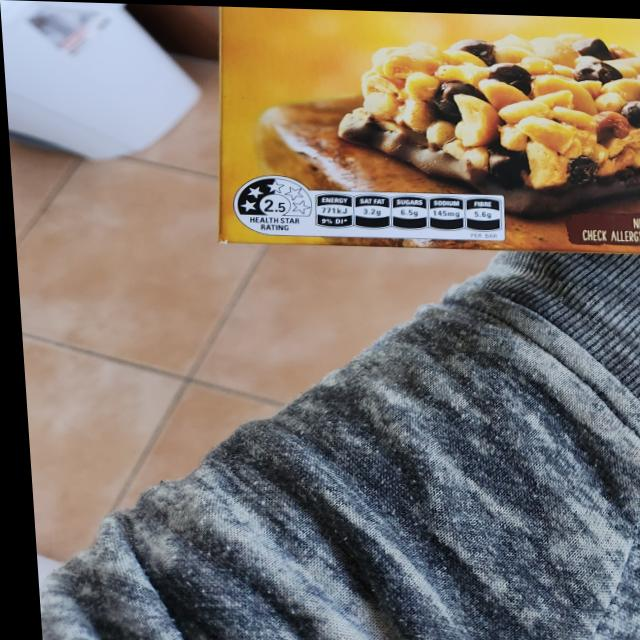muesli bars: (200, 5, 640, 253)
